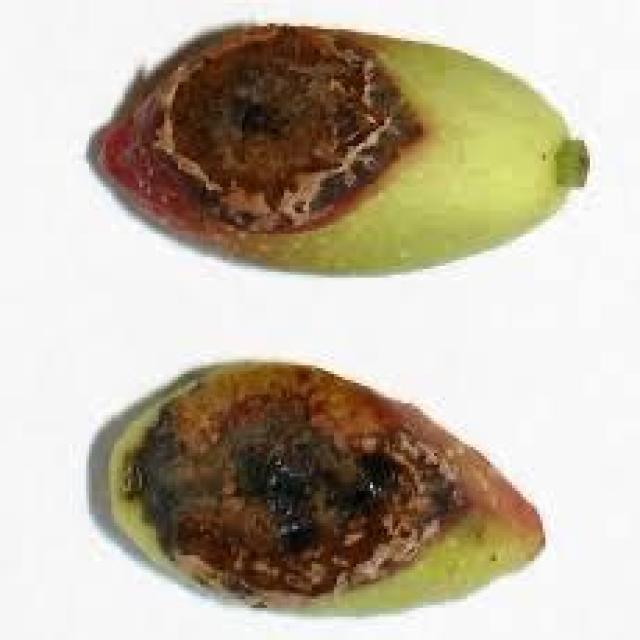Olive Fruit Fly: (92, 24, 584, 272), (89, 362, 543, 614)
